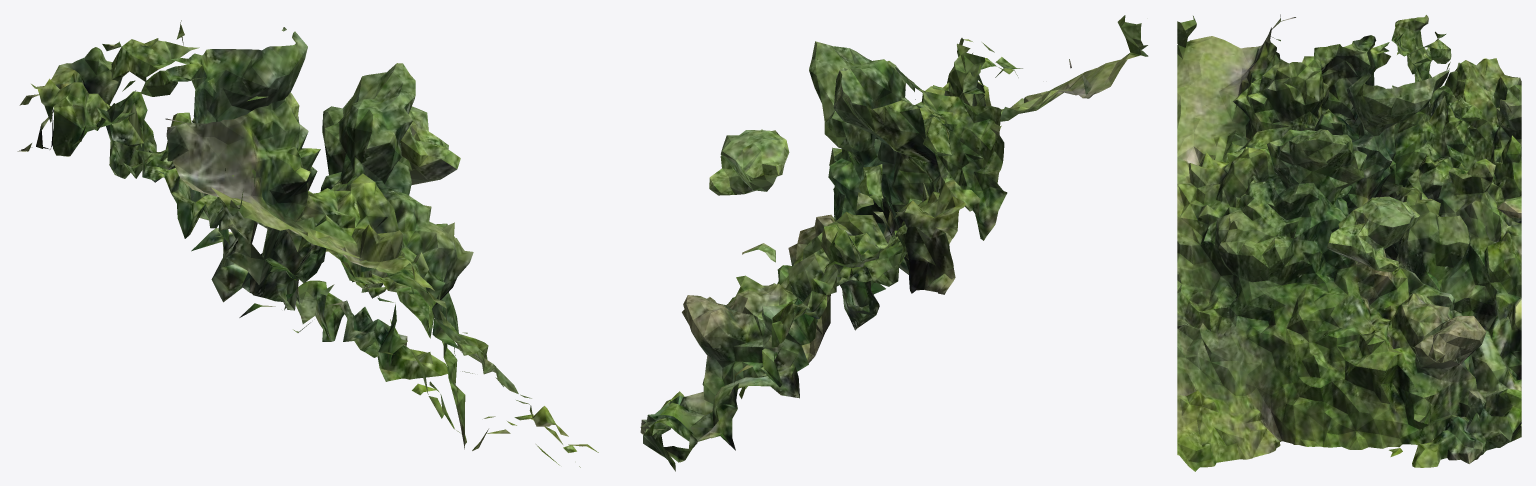
3 views of the same model, side by side, from view 1: azimuth 30°, elevation 25°; view 2: azimuth 150°, elevation 25°; view 3: azimuth 270°, elevation 25° (orthographic). The views are drawn at different scales.
Bounding box in the file's own units: 26.11 × 26.11 × 26.11.
Materials: 6 (6 with a texture image).
